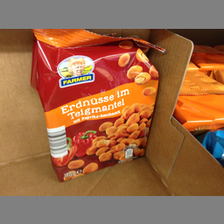nuts: (30, 29, 164, 183)
